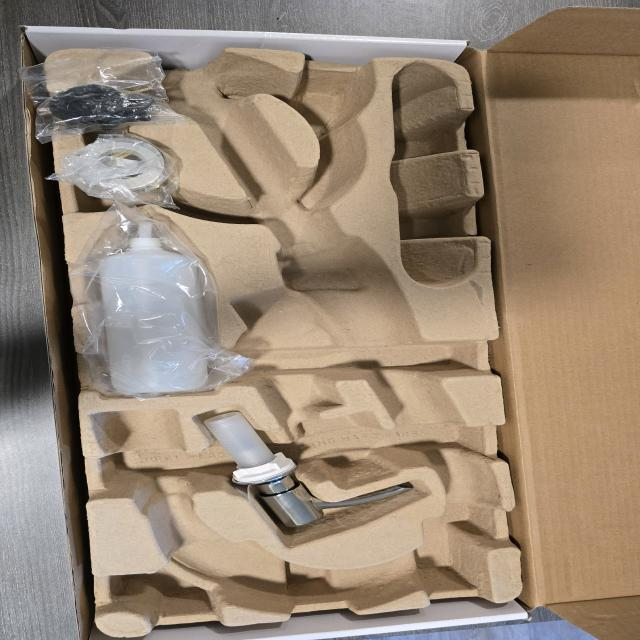1m: (97, 44, 499, 615)
2: (200, 412, 413, 531)
3: (96, 216, 209, 397)
4m: (390, 63, 476, 287)
5m: (297, 83, 363, 127)
6: (39, 133, 184, 209)
7: (23, 50, 186, 145)
